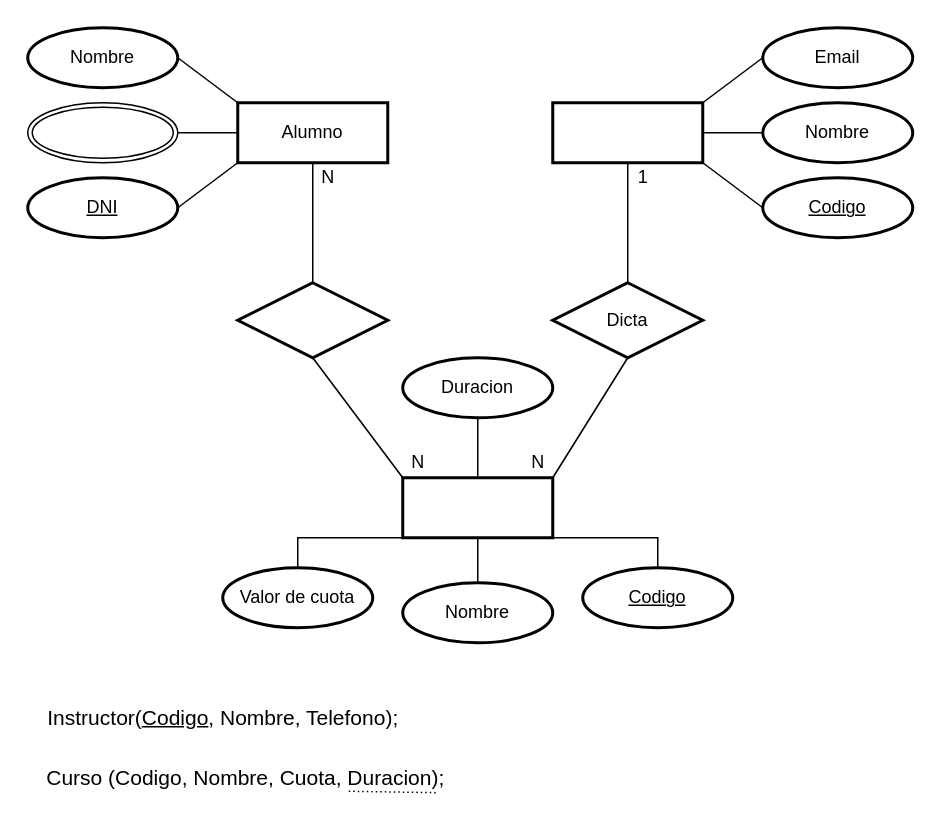
The diagram is 939 pixels wide and 833 high, and some of its shapes have lost their labels. The box of each missing label's shape, as (x1, y1, x2, y2) in pixels:
Curso: (400, 476, 554, 538)
Inscribirse: (236, 280, 388, 358)
Instructor: (550, 100, 704, 164)
Telefono: (26, 101, 178, 163)
